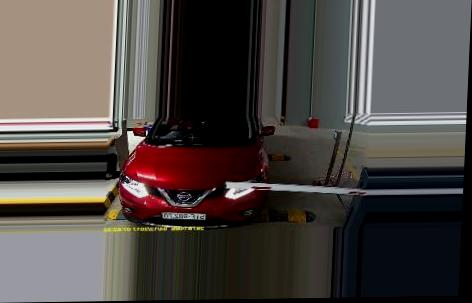License_Plate: (162, 208, 208, 220)
